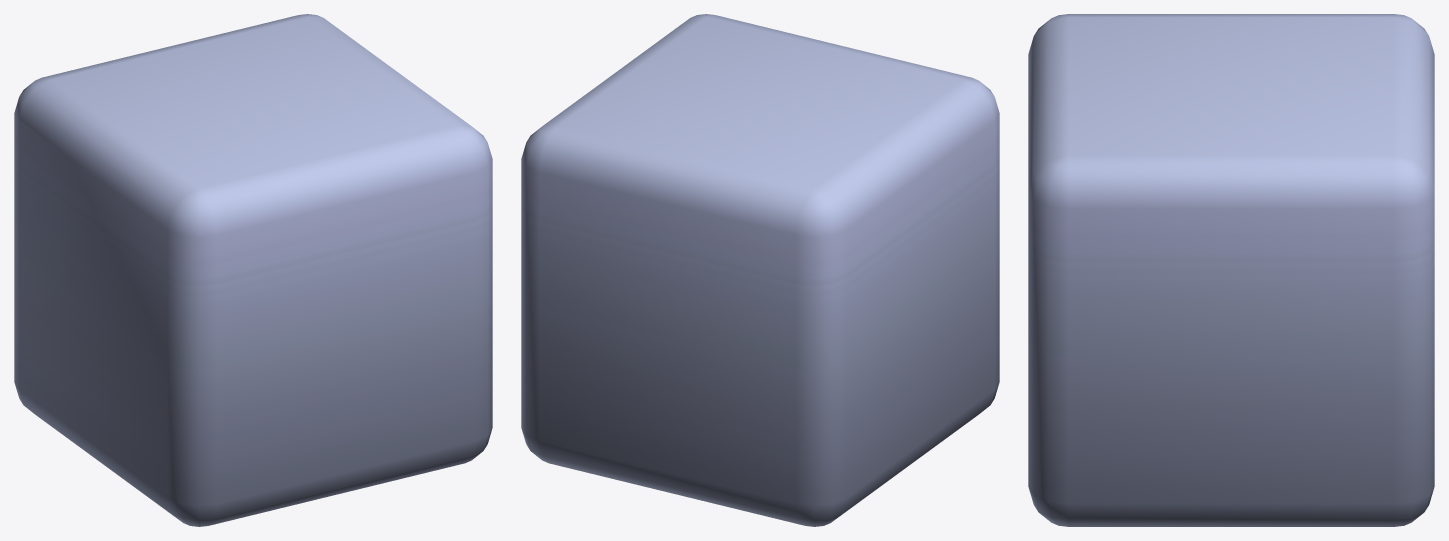
File: kenney-prototype-shape-cube-rounded.glb
3 views of the same model, side by side, from view 1: azimuth 30°, elevation 25°; view 2: azimuth 150°, elevation 25°; view 3: azimuth 270°, elevation 25° (orthographic). The views are drawn at different scales.
Visible parts, largest first — view 1: shape-cube-rounded; view 2: shape-cube-rounded; view 3: shape-cube-rounded.
Boxes of the visible parts, <box> form: shape-cube-rounded: <box>14,14,492,526</box>; shape-cube-rounded: <box>521,14,999,526</box>; shape-cube-rounded: <box>1028,14,1434,526</box>.
Bounding box in the file's own units: 1 × 1 × 1.
1 material, 1 textured.
